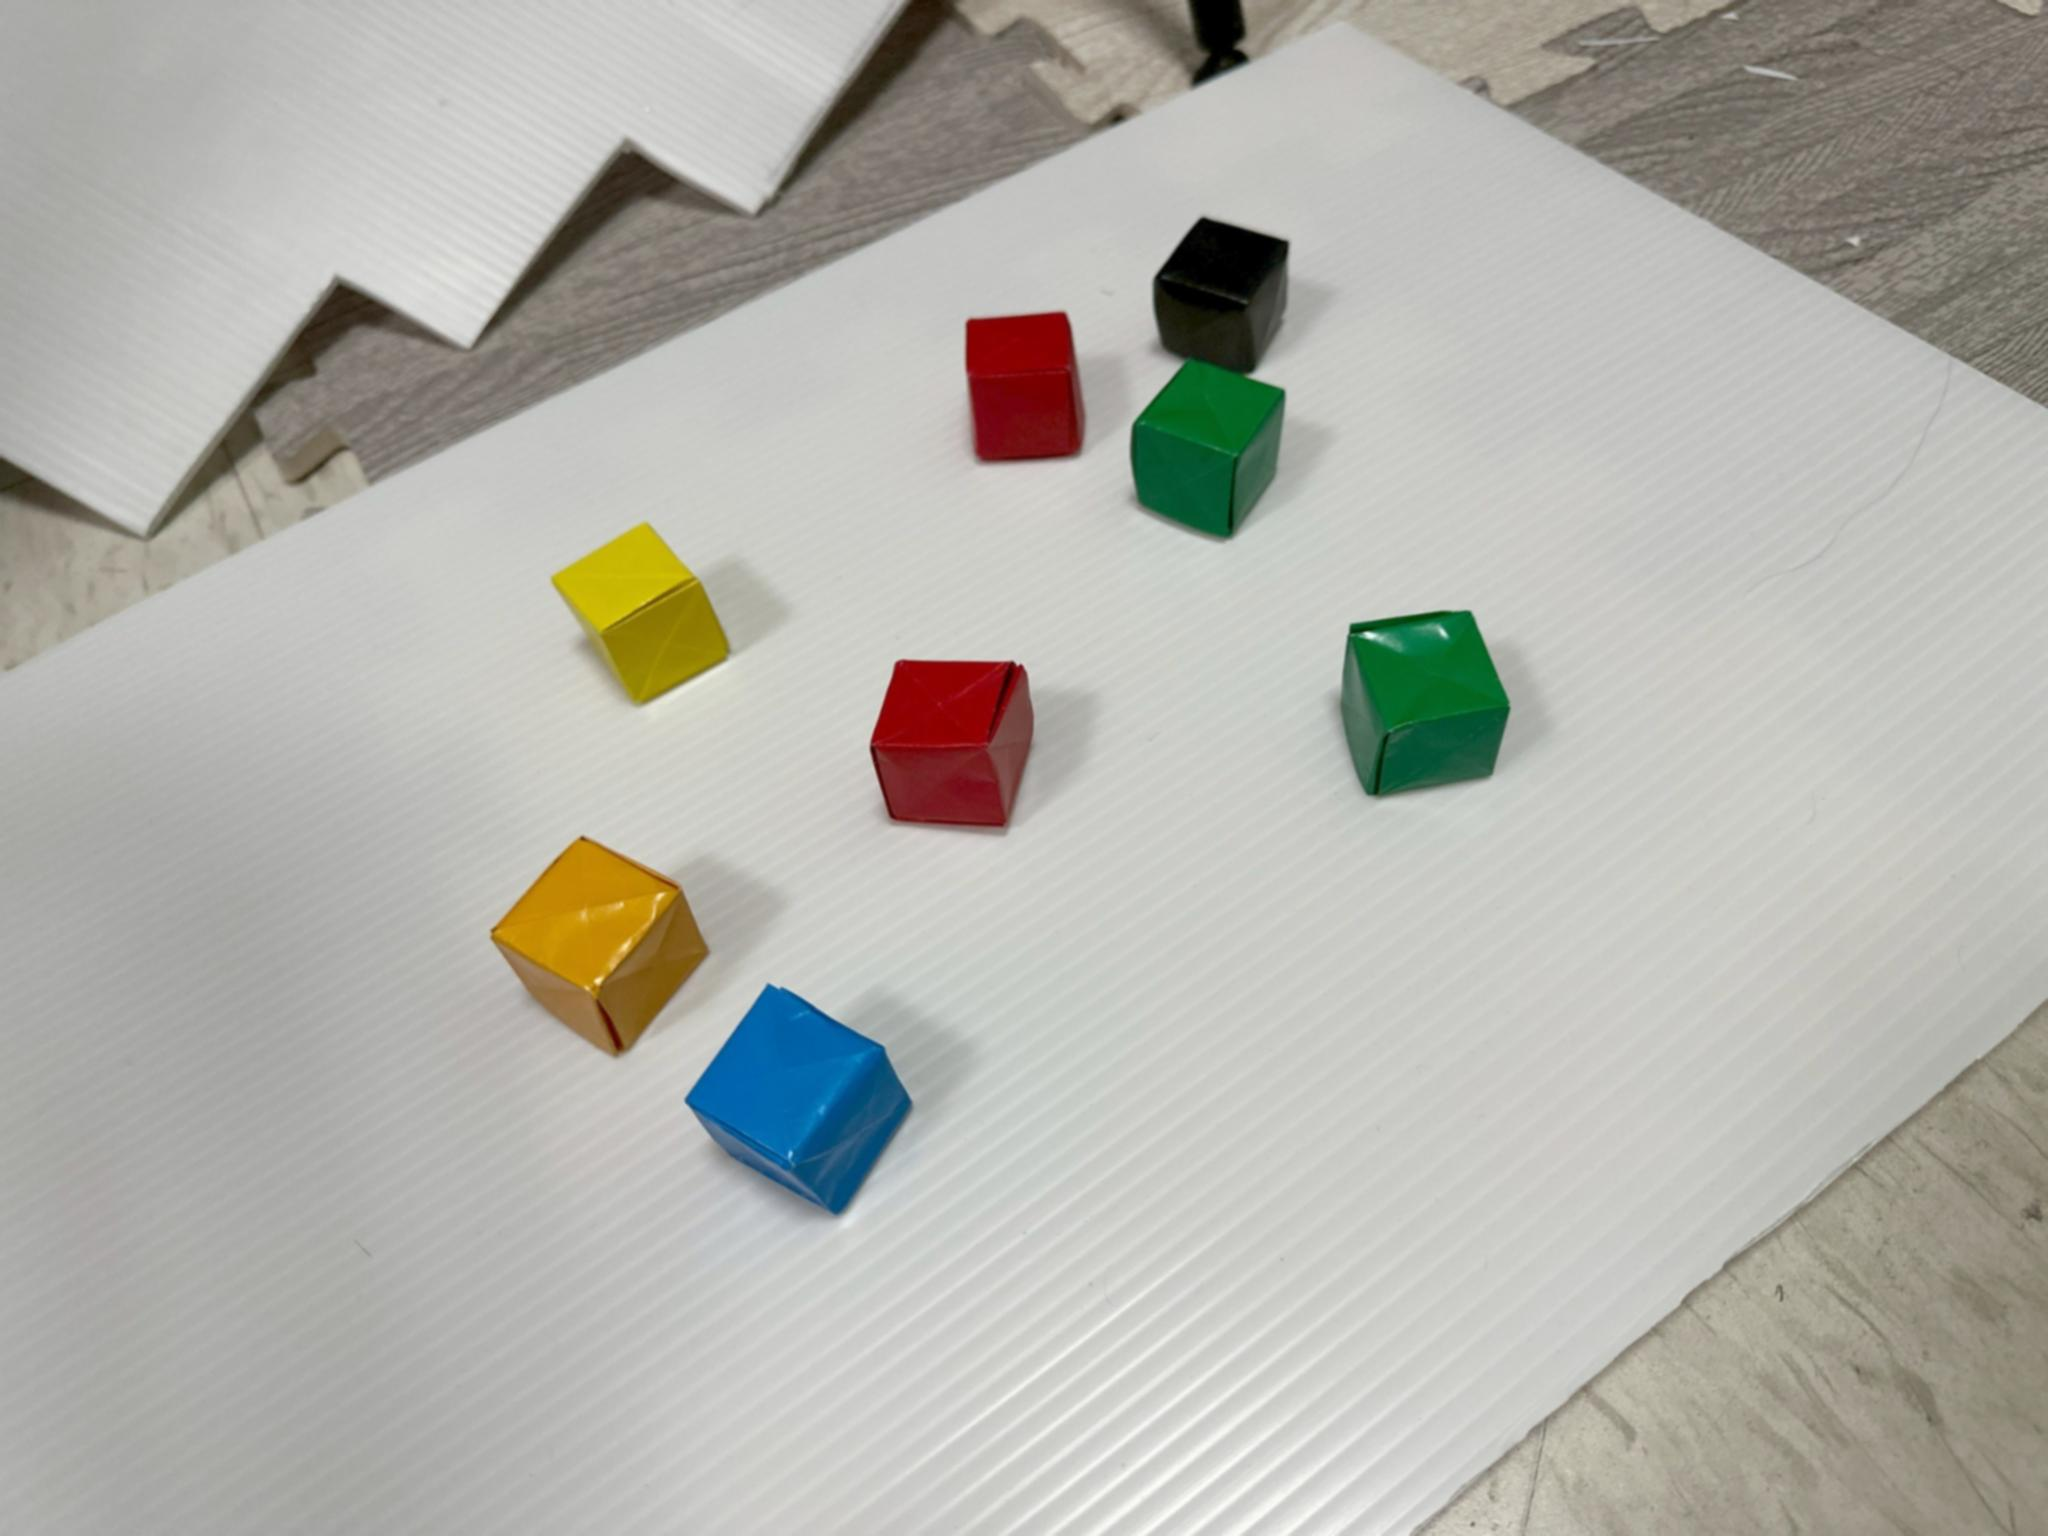cube: (685, 986, 911, 1215), (492, 839, 706, 1054), (553, 524, 726, 703), (1342, 613, 1508, 795), (1132, 358, 1285, 536), (871, 660, 1032, 826), (1155, 218, 1288, 373), (968, 311, 1084, 461)
